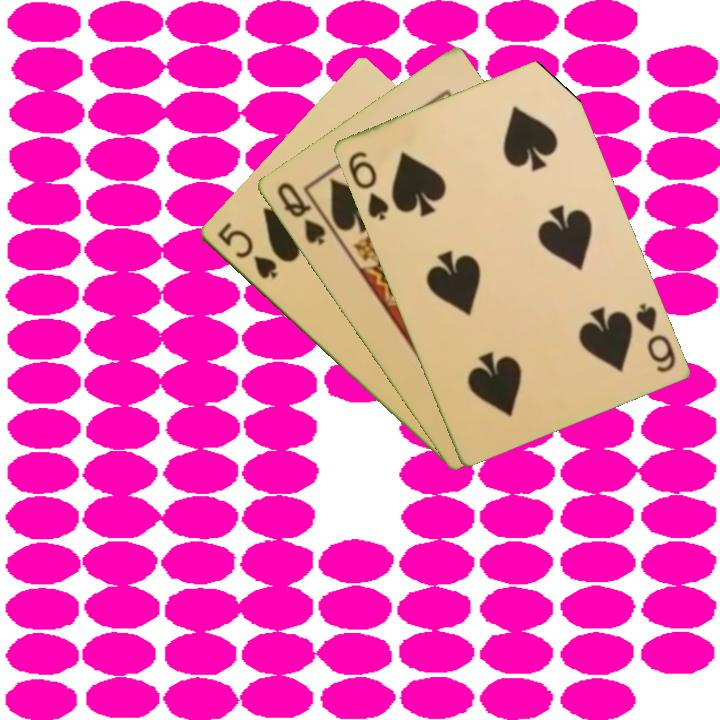5s: (213, 218, 281, 282)
6s: (344, 147, 392, 223), (631, 299, 678, 376)
Qs: (272, 178, 328, 249)
